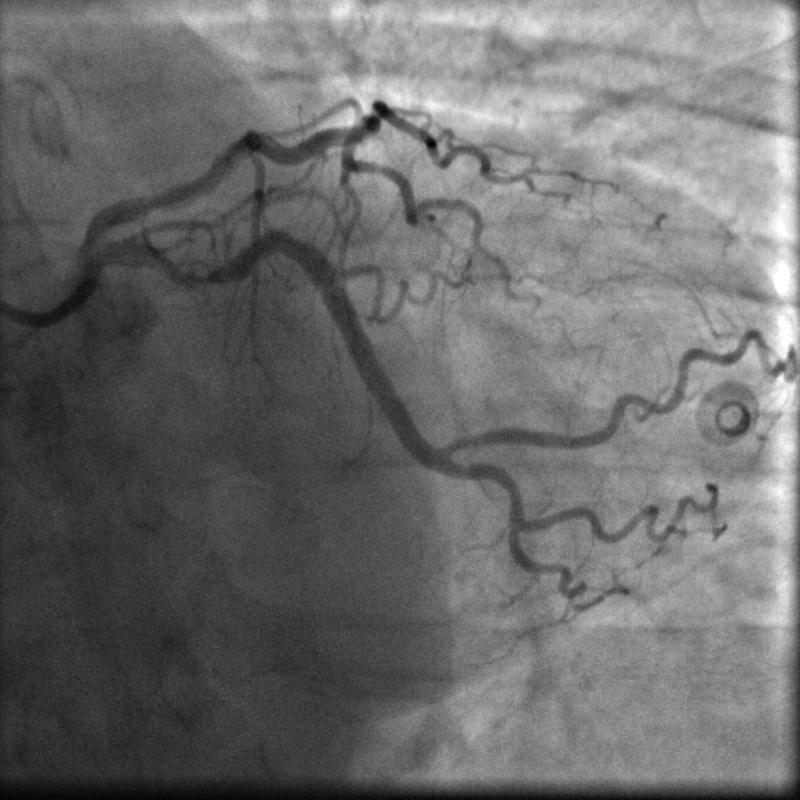Stenosis: (171, 257, 232, 289)
